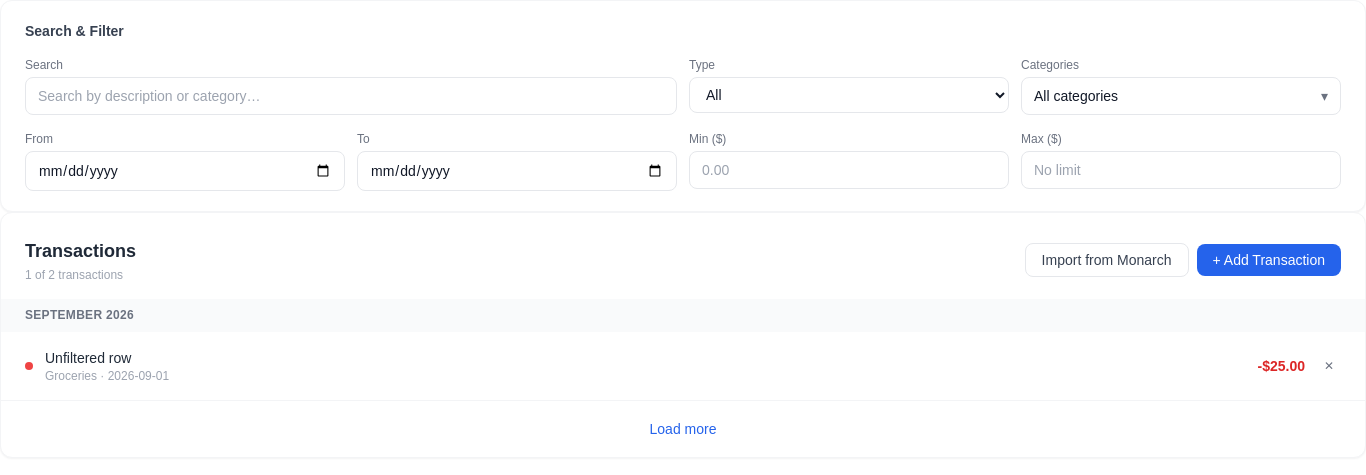
Test: TransactionsPage server-side paging › drops a stale page when the filter changes mid-load
The image size is (1366, 475).
Expected: the text "Unfiltered row" is shown, [45,350,131,366]
Select "Income" in the dropdown labelled "Type". click: [849, 95]
box: [689,77,1009,113]
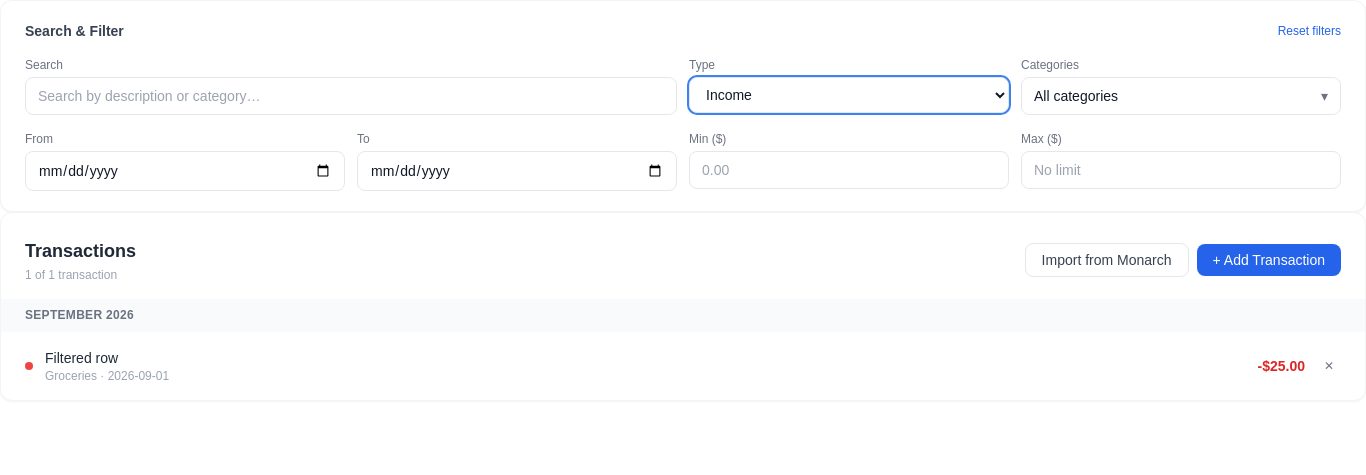
Expected: the text "Filtered row" is shown, [45,350,118,366]
Expected: the button "Unfiltered row" is gone
